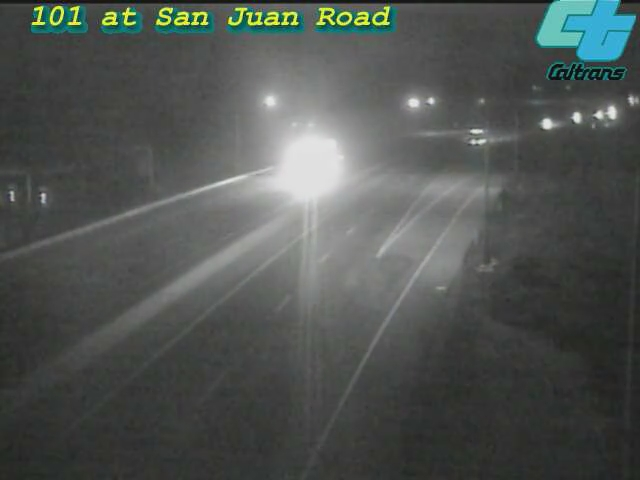vehicle: (267, 125, 347, 205), (525, 100, 575, 150), (451, 111, 501, 161), (551, 91, 601, 141), (583, 87, 633, 137), (573, 90, 623, 140)
